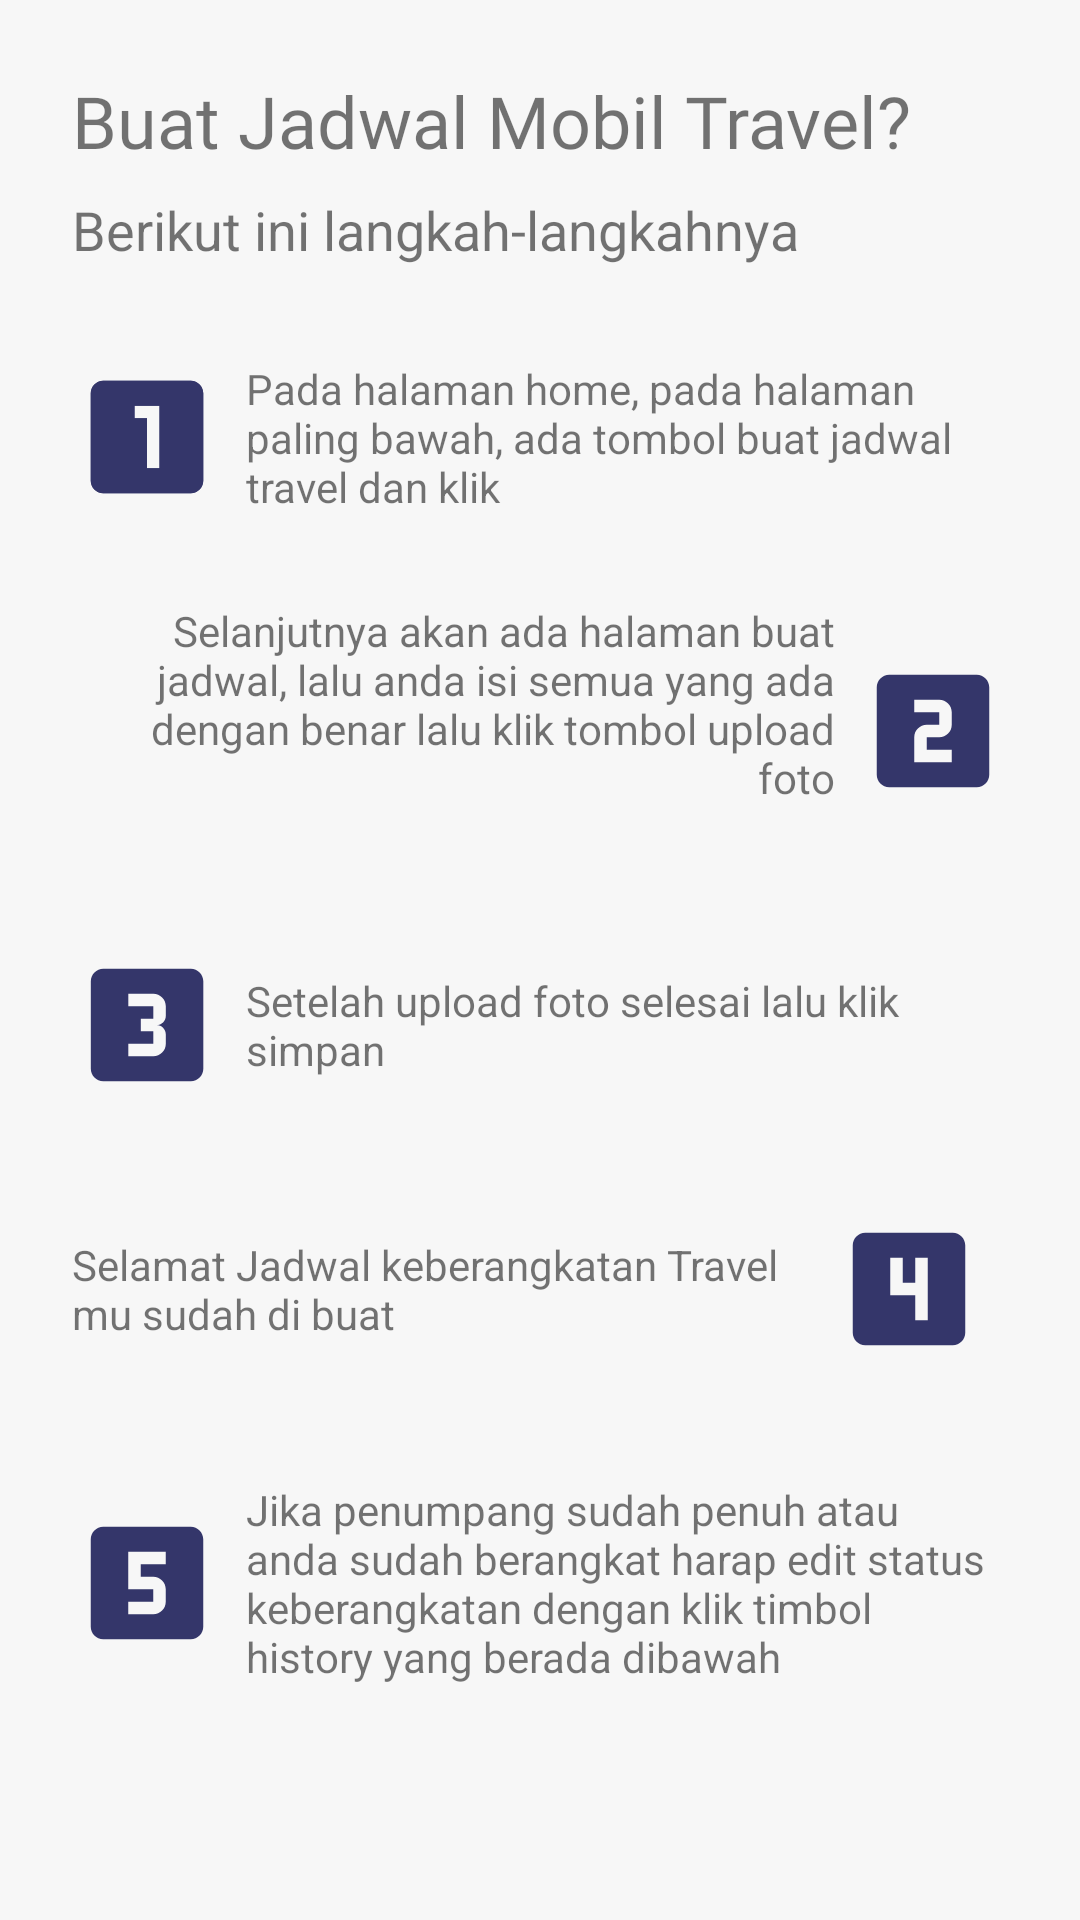

Screen size 1080w x 1920h. Icon name, then its box in pixels as (x1=x1, y1=y1, x2=x2, y2=y2):
looks two: (x1=876, y1=674, x2=990, y2=788)
